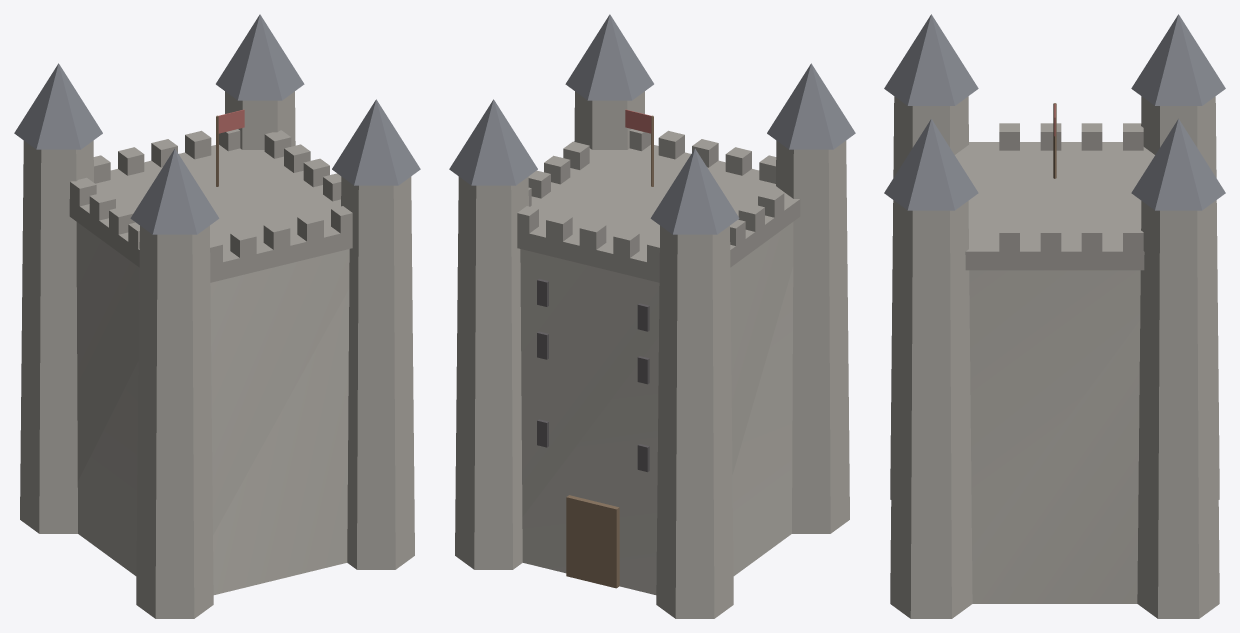
The picture shows the model from 3 angles, left to right: view 1: azimuth 30°, elevation 25°; view 2: azimuth 150°, elevation 25°; view 3: azimuth 270°, elevation 25°; orthographic projection. The views are drawn at different scales.
Visible parts, largest first — view 1: architecture.castle_keep; view 2: architecture.castle_keep; view 3: architecture.castle_keep.
Part boxes in pixels (<box>): architecture.castle_keep: <box>14,14,420,618</box>; architecture.castle_keep: <box>449,14,855,618</box>; architecture.castle_keep: <box>884,14,1225,618</box>.
Size of the model in its own units: 15.98 by 26 by 16.6.
